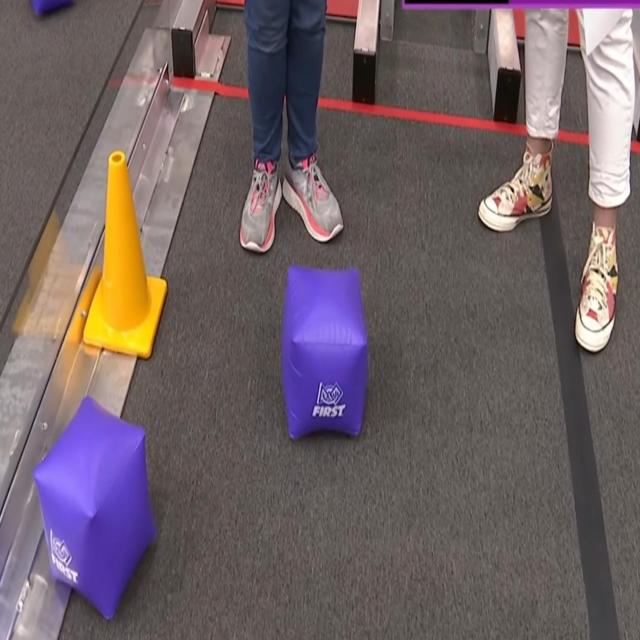frc_cone: (82, 151, 166, 354)
frc_cube: (32, 398, 158, 618), (284, 264, 367, 436)
